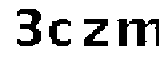3: (12, 5, 46, 49)
c: (45, 14, 77, 48)
m: (115, 12, 160, 48)
z: (80, 15, 115, 49)
